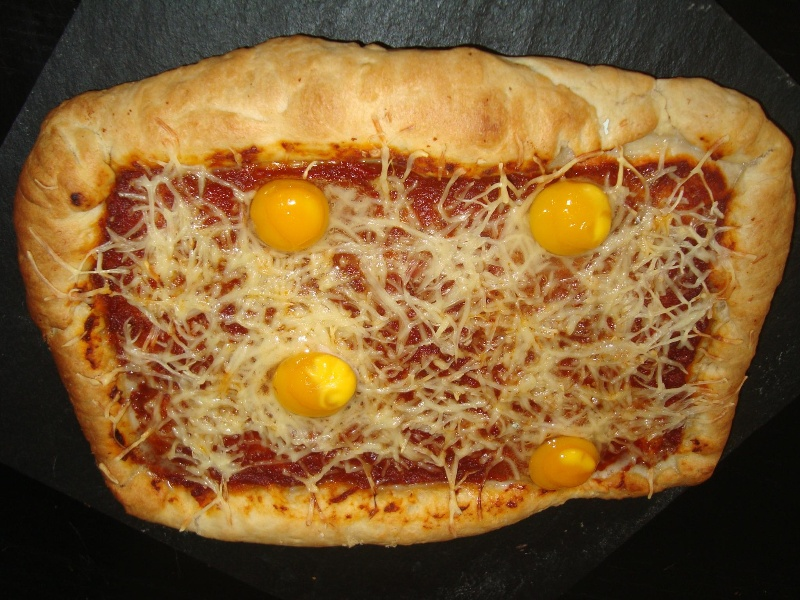oeuf: (260, 339, 374, 430), (518, 169, 616, 259), (241, 181, 340, 259), (527, 428, 609, 491)
